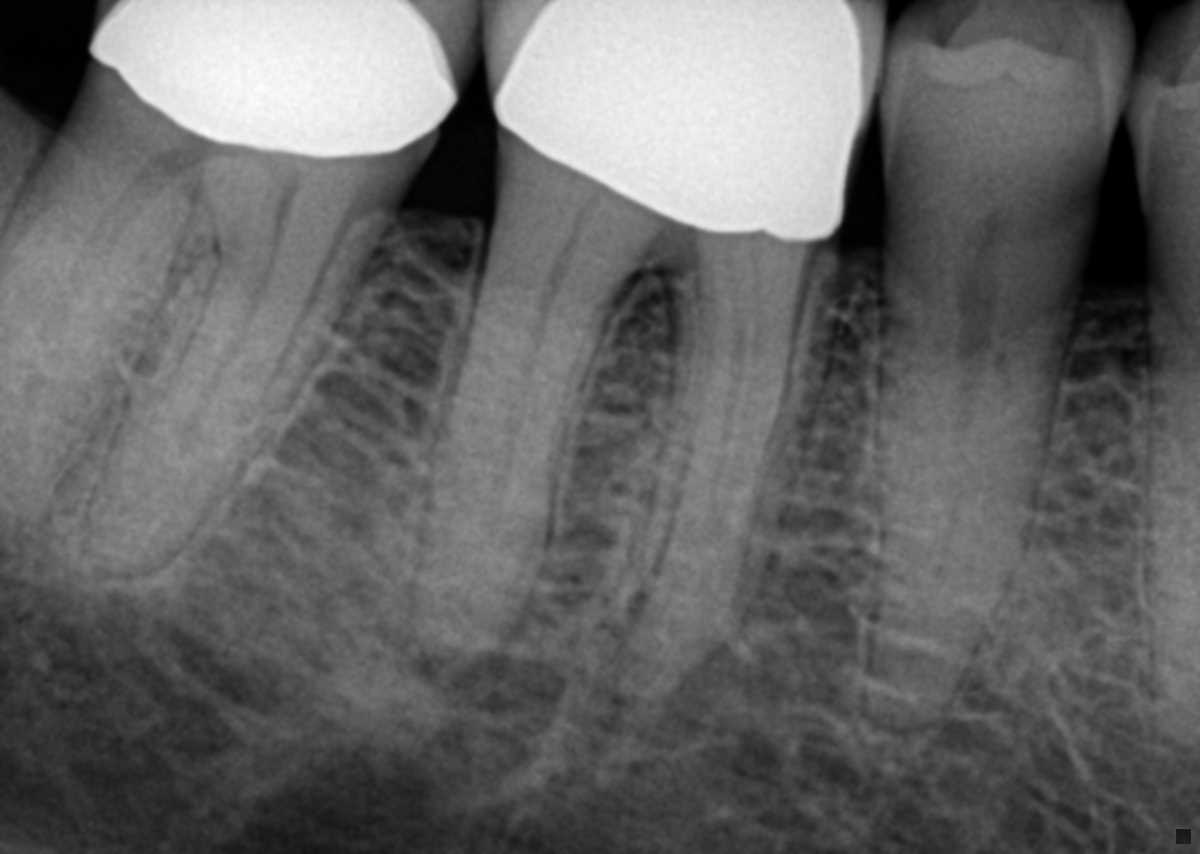Apical Lesion: (609, 646, 743, 750), (425, 653, 556, 722)
Distal Canal: (475, 250, 578, 583), (42, 182, 157, 347)
Distal Root: (418, 229, 630, 663), (0, 146, 190, 547)
Main Canal: (929, 288, 995, 593)
Main Root: (866, 281, 1080, 734), (1141, 285, 1200, 750)
Mesial Canal: (152, 236, 283, 487), (709, 290, 746, 518)
Mesial Root: (82, 223, 394, 583), (608, 283, 802, 699)
